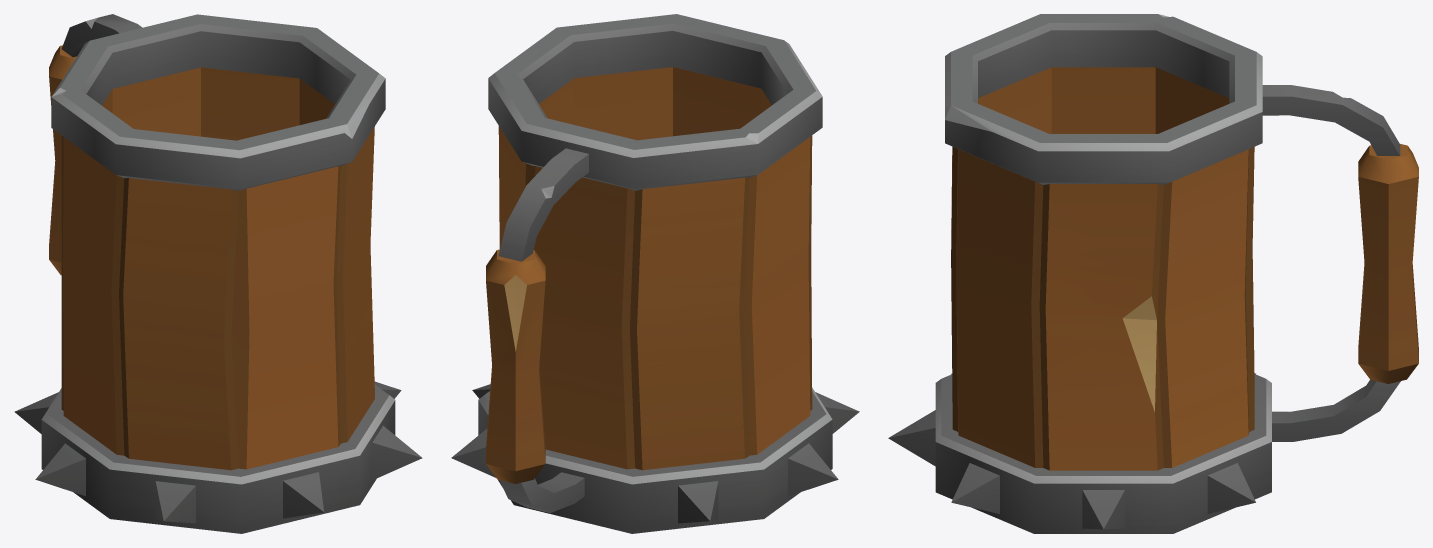
Rendered from Mug_1_B.glb.
The picture shows the model from 3 angles, left to right: view 1: azimuth 30°, elevation 25°; view 2: azimuth 150°, elevation 25°; view 3: azimuth 270°, elevation 25°; orthographic projection.
Parts seen in each view (by area): view 1: Mug_1_B; view 2: Mug_1_B; view 3: Mug_1_B.
Boxes of the visible parts, x1,y1,x2,y2 form: Mug_1_B: (14, 14, 422, 533); Mug_1_B: (451, 14, 859, 533); Mug_1_B: (888, 14, 1418, 533).
Size of the model in its own units: 0.2468 by 0.2426 by 0.3038.
2 materials, 2 textured.
